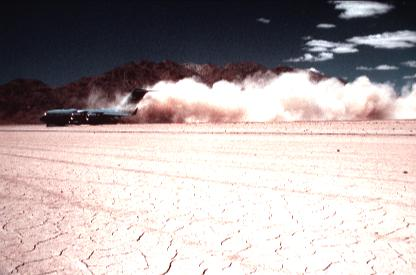C2: (40, 88, 160, 126)
